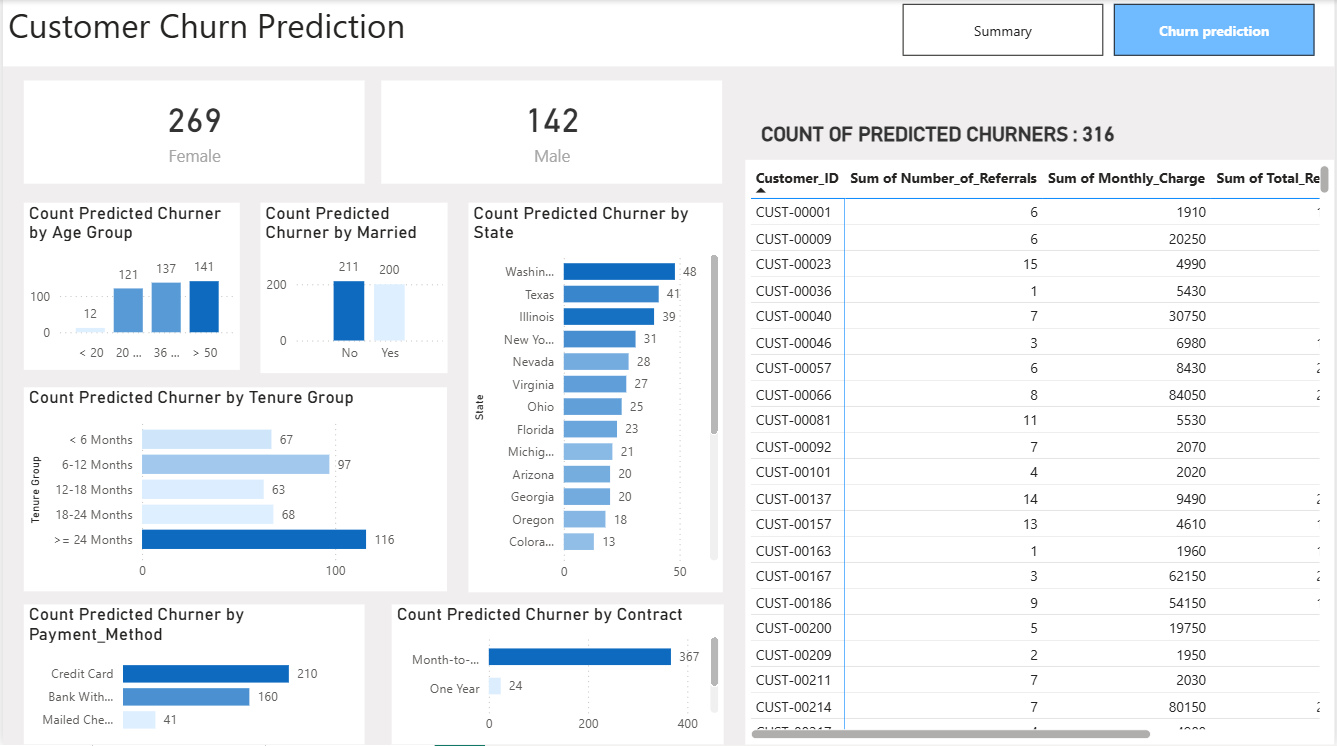

The dashboard page shown, as its layout file describes it:
{"tool":"powerbi","page":{"name":"Churn prediction","canvas":[1280,720],"ordinal":1},"visuals":[{"type":"advanceCardE03760C5AB684758B56AA29F9E6C257B","fields":{"mainMeasure":["_mesures.Count Predicted Churner"]},"box":[20.5,82,256.1,99.5],"z":0},{"type":"advanceCardE03760C5AB684758B56AA29F9E6C257B","fields":{"mainMeasure":["_mesures.Count Predicted Churner"]},"box":[298.6,82,257.6,99.5],"z":1000},{"type":"columnChart","fields":{"Category":["mapping_ageGroup.Age Group"],"Y":["_mesures.Count Predicted Churner"]},"box":[20.5,199,207.8,161],"z":2000},{"type":"columnChart","fields":{"Category":["Predictions.Married"],"Y":["_mesures.Count Predicted Churner"]},"box":[247.3,199,180,163.9],"z":3000},{"type":"barChart","fields":{"Category":["prod_Churn.State"],"Y":["_mesures.Count Predicted Churner"]},"box":[455.1,199,237.1,373.2],"z":4000},{"type":"actionButton","box":[0,0,100,40],"z":5000},{"type":"pivotTable","fields":{"Rows":["Predictions.Customer_ID"],"Values":["Sum(Predictions.Number_of_Referrals)","Sum(Predictions.Monthly_Charge)","Sum(Predictions.Total_Revenue)","Sum(Predictions.Total_Refunds)"]},"box":[714.2,158.1,566.4,562],"z":6000},{"type":"textbox","box":[0,0,1279.8,67.8],"z":7000},{"type":"barChart","fields":{"Category":["Predictions.Payment_Method"],"Y":["_mesures.Count Predicted Churner"]},"box":[20.5,585.4,327.8,134.6],"z":8000},{"type":"barChart","fields":{"Y":["_mesures.Count Predicted Churner"],"Category":["mapping_tenureGroup.Tenure Group"]},"box":[20.5,376.1,406.8,196.1],"z":9000},{"type":"barChart","fields":{"Y":["_mesures.Count Predicted Churner"],"Category":["Predictions.Contract"]},"box":[373.2,585.4,319,134.6],"z":10000},{"type":"advanceCardE03760C5AB684758B56AA29F9E6C257B","fields":{"mainMeasure":["_mesures.Title Predicted Churners"]},"box":[714.2,111.2,564.9,42.4],"z":11000},{"type":"pageNavigator","box":[865.3,8,397.3,50.7],"z":11001}]}

Visuals, with their boxes in screenshot pixels (x1, y1, x2, y2), scaled from the page's 1280x720 canvas onto the 1337x746 screenshot:
advanceCardE03760C5AB684758B56AA29F9E6C257B - _mesures.Count Predicted Churner: [21, 85, 289, 188]
advanceCardE03760C5AB684758B56AA29F9E6C257B - _mesures.Count Predicted Churner: [312, 85, 581, 188]
columnChart - mapping_ageGroup.Age Group x _mesures.Count Predicted Churner: [21, 206, 238, 373]
columnChart - Predictions.Married x _mesures.Count Predicted Churner: [258, 206, 446, 376]
barChart - prod_Churn.State x _mesures.Count Predicted Churner: [475, 206, 723, 593]
actionButton: [0, 0, 104, 41]
pivotTable - Predictions.Customer_ID x Sum(Predictions.Number_of_Referrals): [746, 164, 1336, 745]
textbox: [0, 0, 1336, 70]
barChart - Predictions.Payment_Method x _mesures.Count Predicted Churner: [21, 607, 364, 745]
barChart - _mesures.Count Predicted Churner x mapping_tenureGroup.Tenure Group: [21, 390, 446, 593]
barChart - _mesures.Count Predicted Churner x Predictions.Contract: [390, 607, 723, 745]
advanceCardE03760C5AB684758B56AA29F9E6C257B - _mesures.Title Predicted Churners: [746, 115, 1336, 159]
pageNavigator: [904, 8, 1319, 61]
